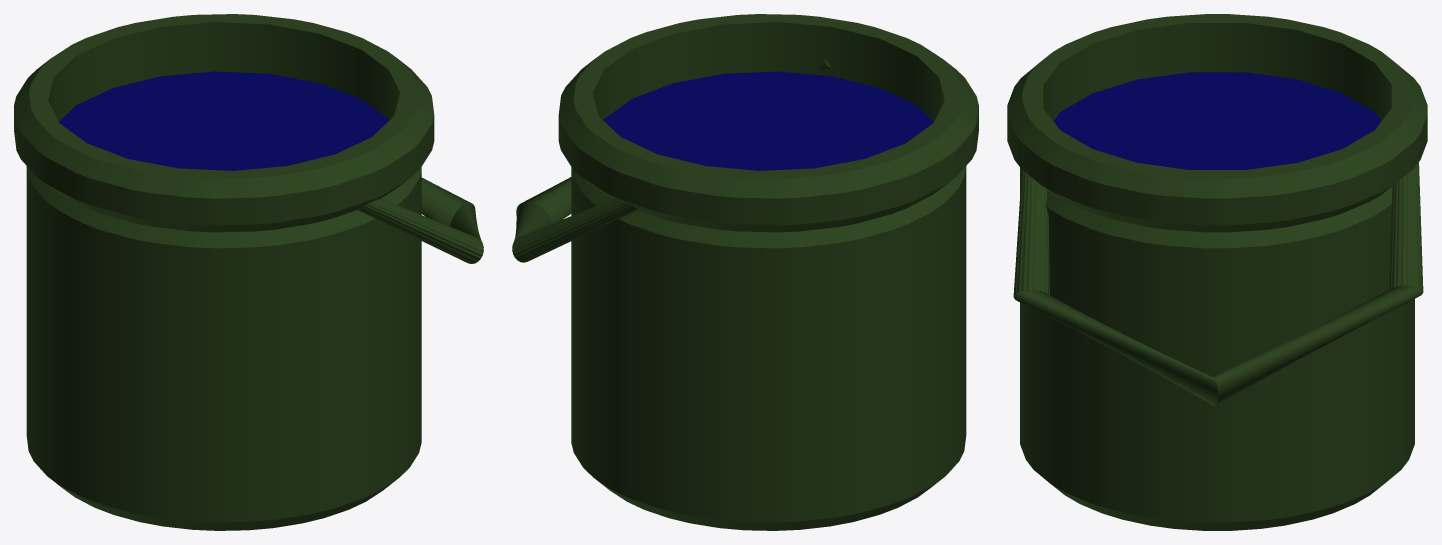
File: sm_mop.fbx
The picture shows the model from 3 angles, left to right: view 1: azimuth 30°, elevation 25°; view 2: azimuth 150°, elevation 25°; view 3: azimuth 270°, elevation 25°; orthographic projection.
Parts seen in each view (by area): view 1: MopBucket; view 2: MopBucket; view 3: MopBucket.
Part boxes in pixels (bbox=[...]): MopBucket: bbox=[14, 14, 483, 530]; MopBucket: bbox=[512, 14, 978, 530]; MopBucket: bbox=[1007, 14, 1427, 530].
Size of the model in its own units: 41.99 by 33.19 by 35.25.
